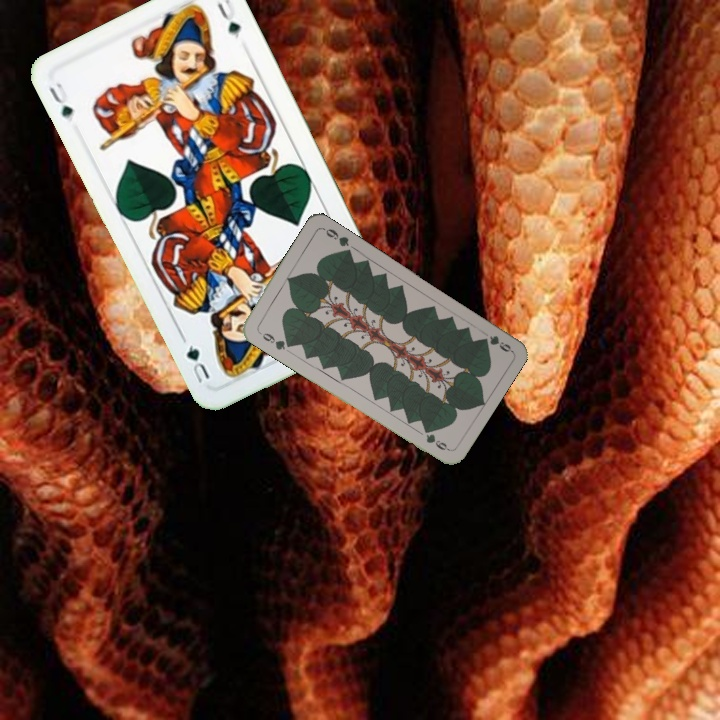G9: (254, 327, 293, 353), (478, 331, 514, 355)
GU: (45, 78, 76, 125)
